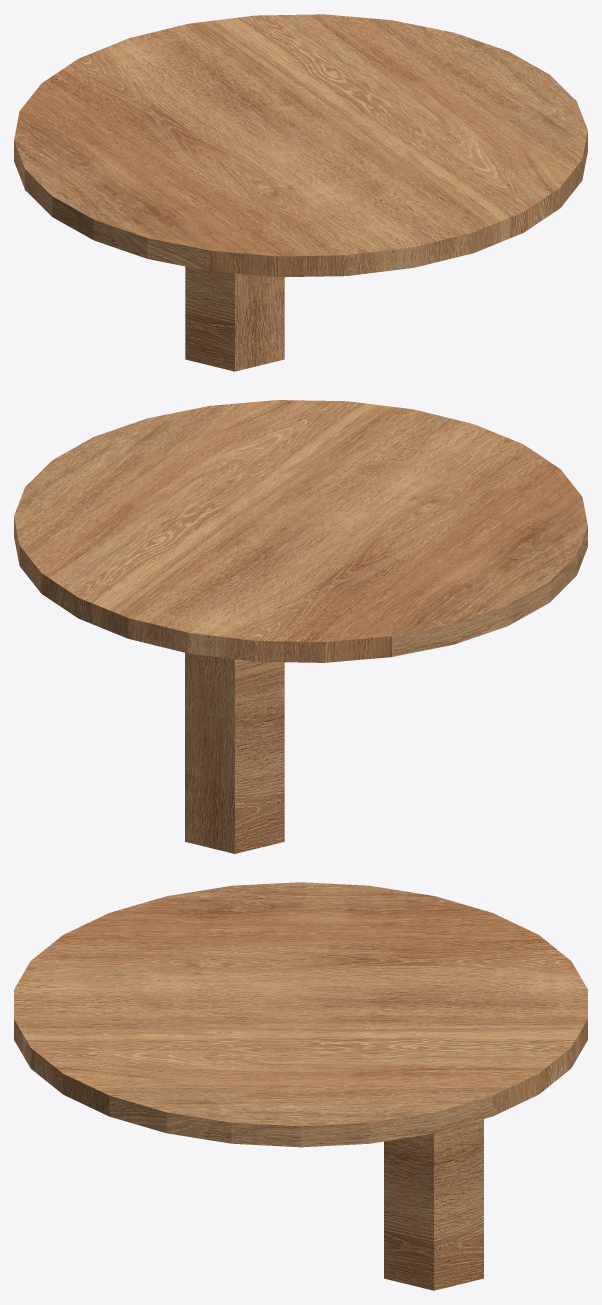
File: 24066_gpt-only.glb
3 views of the same model, one above another, from view 1: azimuth 30°, elevation 25°; view 2: azimuth 150°, elevation 25°; view 3: azimuth 270°, elevation 25° (orthographic).
Visible parts, largest first — view 1: ParentEmpty; view 2: ParentEmpty; view 3: ParentEmpty.
Part boxes in pixels (bbox=[...]): ParentEmpty: bbox=[14, 14, 587, 371]; ParentEmpty: bbox=[14, 400, 587, 853]; ParentEmpty: bbox=[14, 882, 587, 1290].
Bounding box in the file's own units: 1 × 0.5003 × 0.9927.
1 material, 1 textured.
